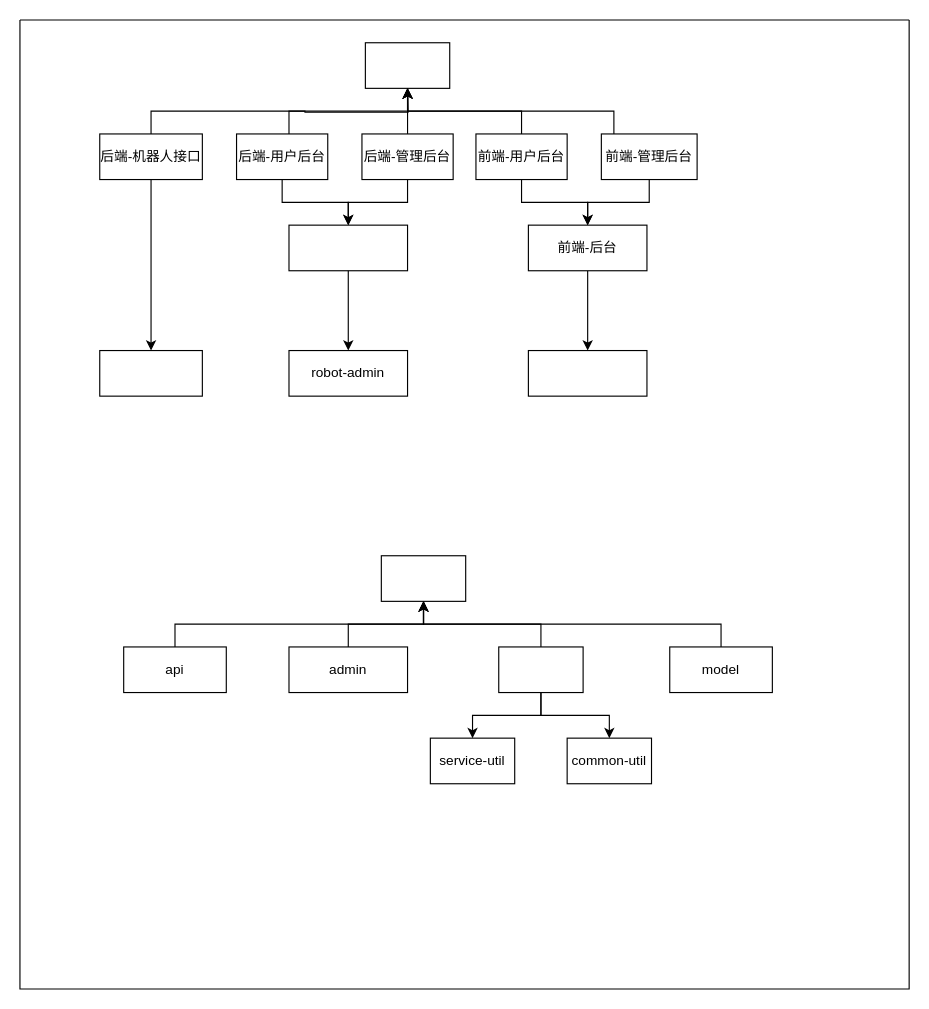
Some shapes in this 929 by 1009 pixel diagram are drawn without their labels. The shapes that lost their labels are listed below. From the top down, each one's centre as x and y in pixels, then its label:
At pixel 407 65: "robot".
At pixel 348 247: "后端-后台".
At pixel 150 372: "robot-api".
At pixel 587 372: "vue：robot-admin".
At pixel 423 578: "robot-parent".
At pixel 540 669: "common".
